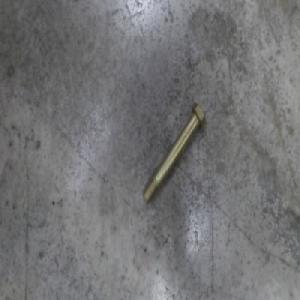Bolt: (142, 99, 206, 205)
